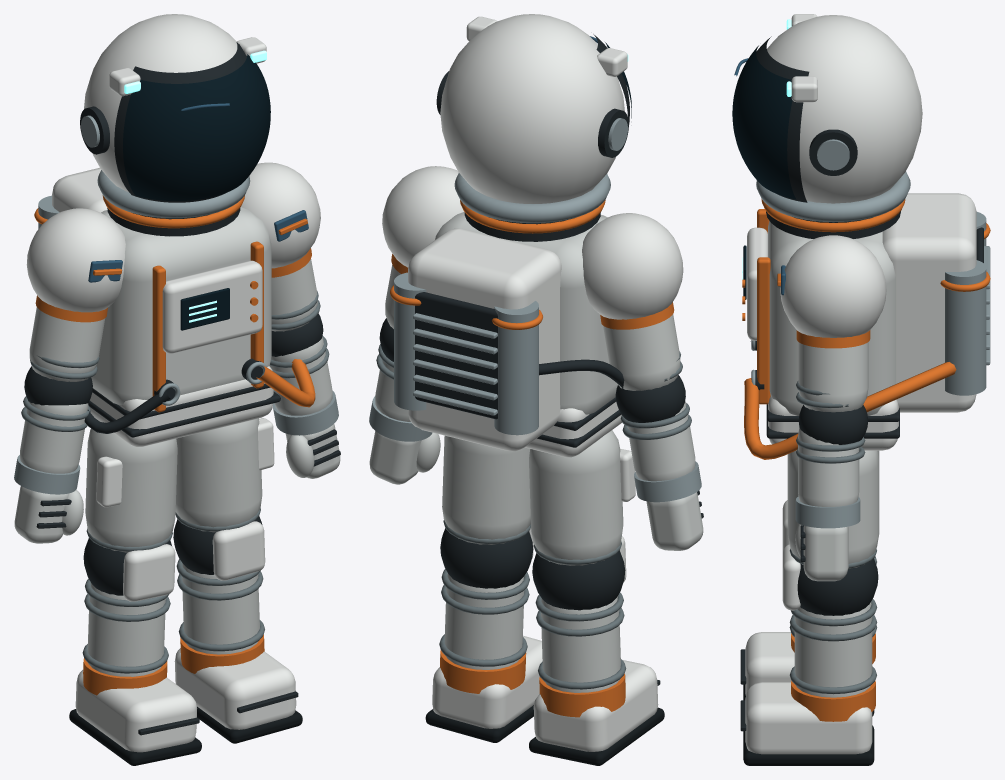
The model's file is astronaut.glb.
3 views of the same model, side by side, from view 1: azimuth 30°, elevation 25°; view 2: azimuth 150°, elevation 25°; view 3: azimuth 270°, elevation 25° (orthographic). The views are drawn at different scales.
Parts seen in each view (by area): view 1: fabric, ceramic, visor, graphite, orange, seam, titanium, rubber, blue, light; view 2: ceramic, fabric, graphite, titanium, seam, orange, rubber; view 3: ceramic, fabric, graphite, titanium, orange, visor, seam, rubber.
Boxes of the visible parts, bbox=[...] form: fabric: bbox=[14, 207, 340, 676]; ceramic: bbox=[26, 14, 320, 752]; visor: bbox=[123, 54, 270, 330]; graphite: bbox=[24, 42, 340, 735]; orange: bbox=[34, 195, 315, 695]; seam: bbox=[21, 291, 329, 673]; titanium: bbox=[14, 115, 338, 494]; rubber: bbox=[69, 706, 302, 765]; blue: bbox=[88, 103, 308, 282]; light: bbox=[124, 50, 266, 322]; ceramic: bbox=[382, 14, 683, 751]; fabric: bbox=[369, 212, 703, 692]; graphite: bbox=[379, 34, 703, 685]; titanium: bbox=[369, 118, 701, 502]; seam: bbox=[376, 344, 691, 689]; orange: bbox=[390, 200, 674, 717]; rubber: bbox=[425, 705, 664, 765]; ceramic: bbox=[745, 14, 976, 754]; fabric: bbox=[768, 221, 895, 697]; graphite: bbox=[740, 36, 983, 731]; titanium: bbox=[751, 139, 990, 528]; orange: bbox=[742, 199, 990, 721]; visor: bbox=[732, 45, 796, 299]; seam: bbox=[789, 381, 877, 694]; rubber: bbox=[743, 684, 874, 765].
Size of the model in its own units: 0.9035 by 1.9 by 0.631.
